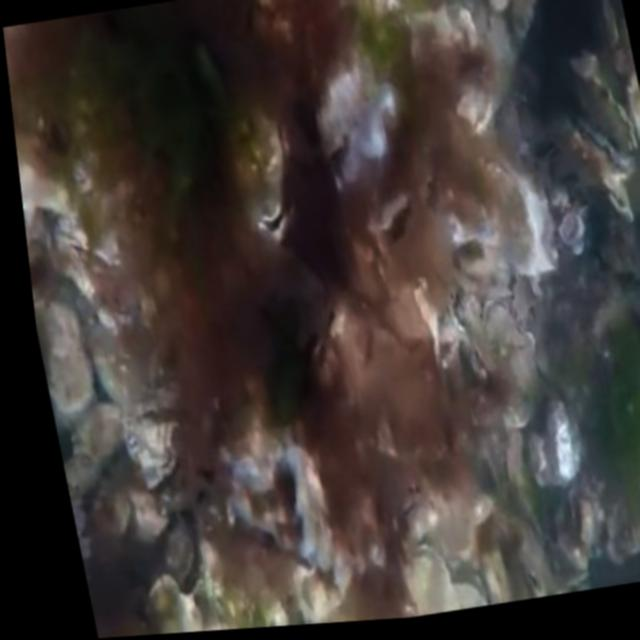Oyster-Closed: (308, 292, 354, 391), (599, 168, 632, 223), (570, 494, 594, 548), (627, 75, 640, 131)
Oyster-Indeterminate: (486, 160, 552, 282), (47, 304, 94, 410), (90, 328, 148, 410), (147, 574, 203, 634), (404, 543, 450, 615), (16, 145, 66, 211), (71, 404, 122, 468), (449, 584, 485, 611), (484, 0, 511, 18)
Oyster-Open: (318, 69, 395, 195), (225, 112, 294, 244), (372, 191, 447, 312), (575, 71, 636, 163)
